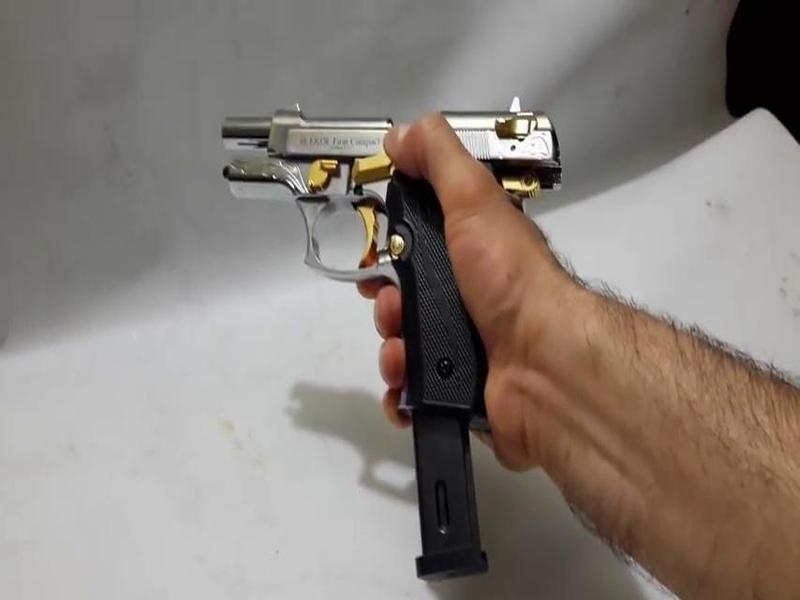Pistola: (207, 93, 580, 427)
